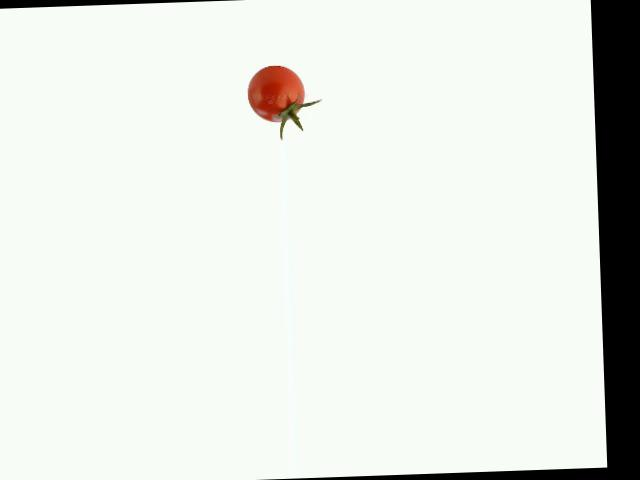tomato: (246, 64, 304, 122)
